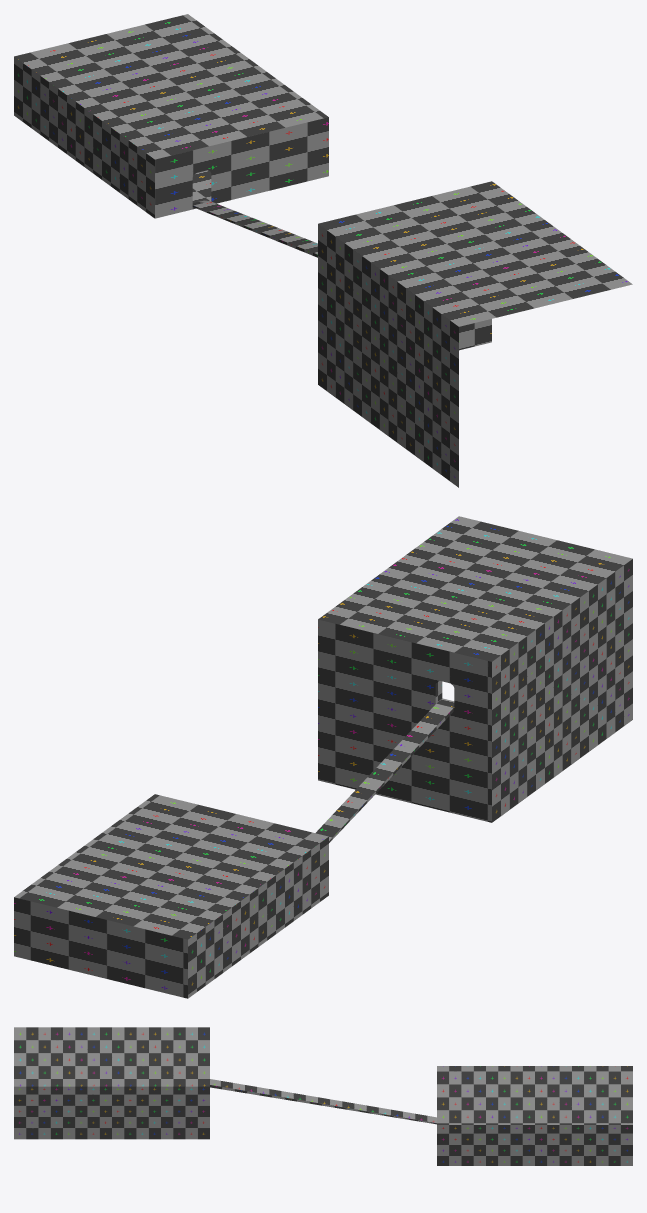
The model's file is scenario_prototype_interior_roof_left.fbx.
3 views of the same model, one above another, from view 1: azimuth 30°, elevation 25°; view 2: azimuth 150°, elevation 25°; view 3: azimuth 270°, elevation 25° (orthographic). The views are drawn at different scales.
Visible parts, largest first — view 1: interior_roof_left; view 2: interior_roof_left; view 3: interior_roof_left.
Part boxes in pixels (<box>): interior_roof_left: <box>14,14,632,487</box>; interior_roof_left: <box>14,516,632,998</box>; interior_roof_left: <box>14,1027,632,1165</box>.
Bounding box in the file's own units: 1850 × 1636 × 8195.
